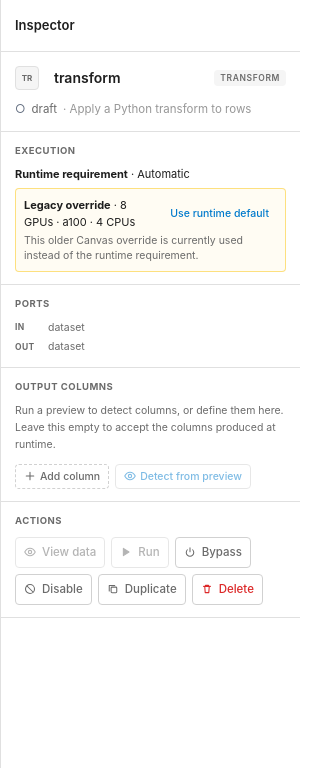
Test: Inspector — advanced execution › keeps a legacy override visible and lets the user return to the runtime default
This screenshot has width=320, height=768.
Expected: the element showing "Runtime requirement · Automatic" is shown, [15,167,190,181]
Expected: the element showing "Legacy override · 8 GPUs · a100 · 4 CPUs" is shown, [24,197,154,230]
Click the button "Use runtime default".
click(220, 214)  # box [162,202,277,226]
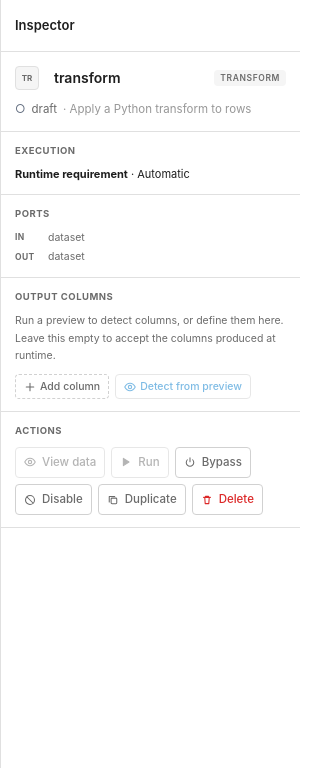
Expected: the field labelled "GPUs" is gone
